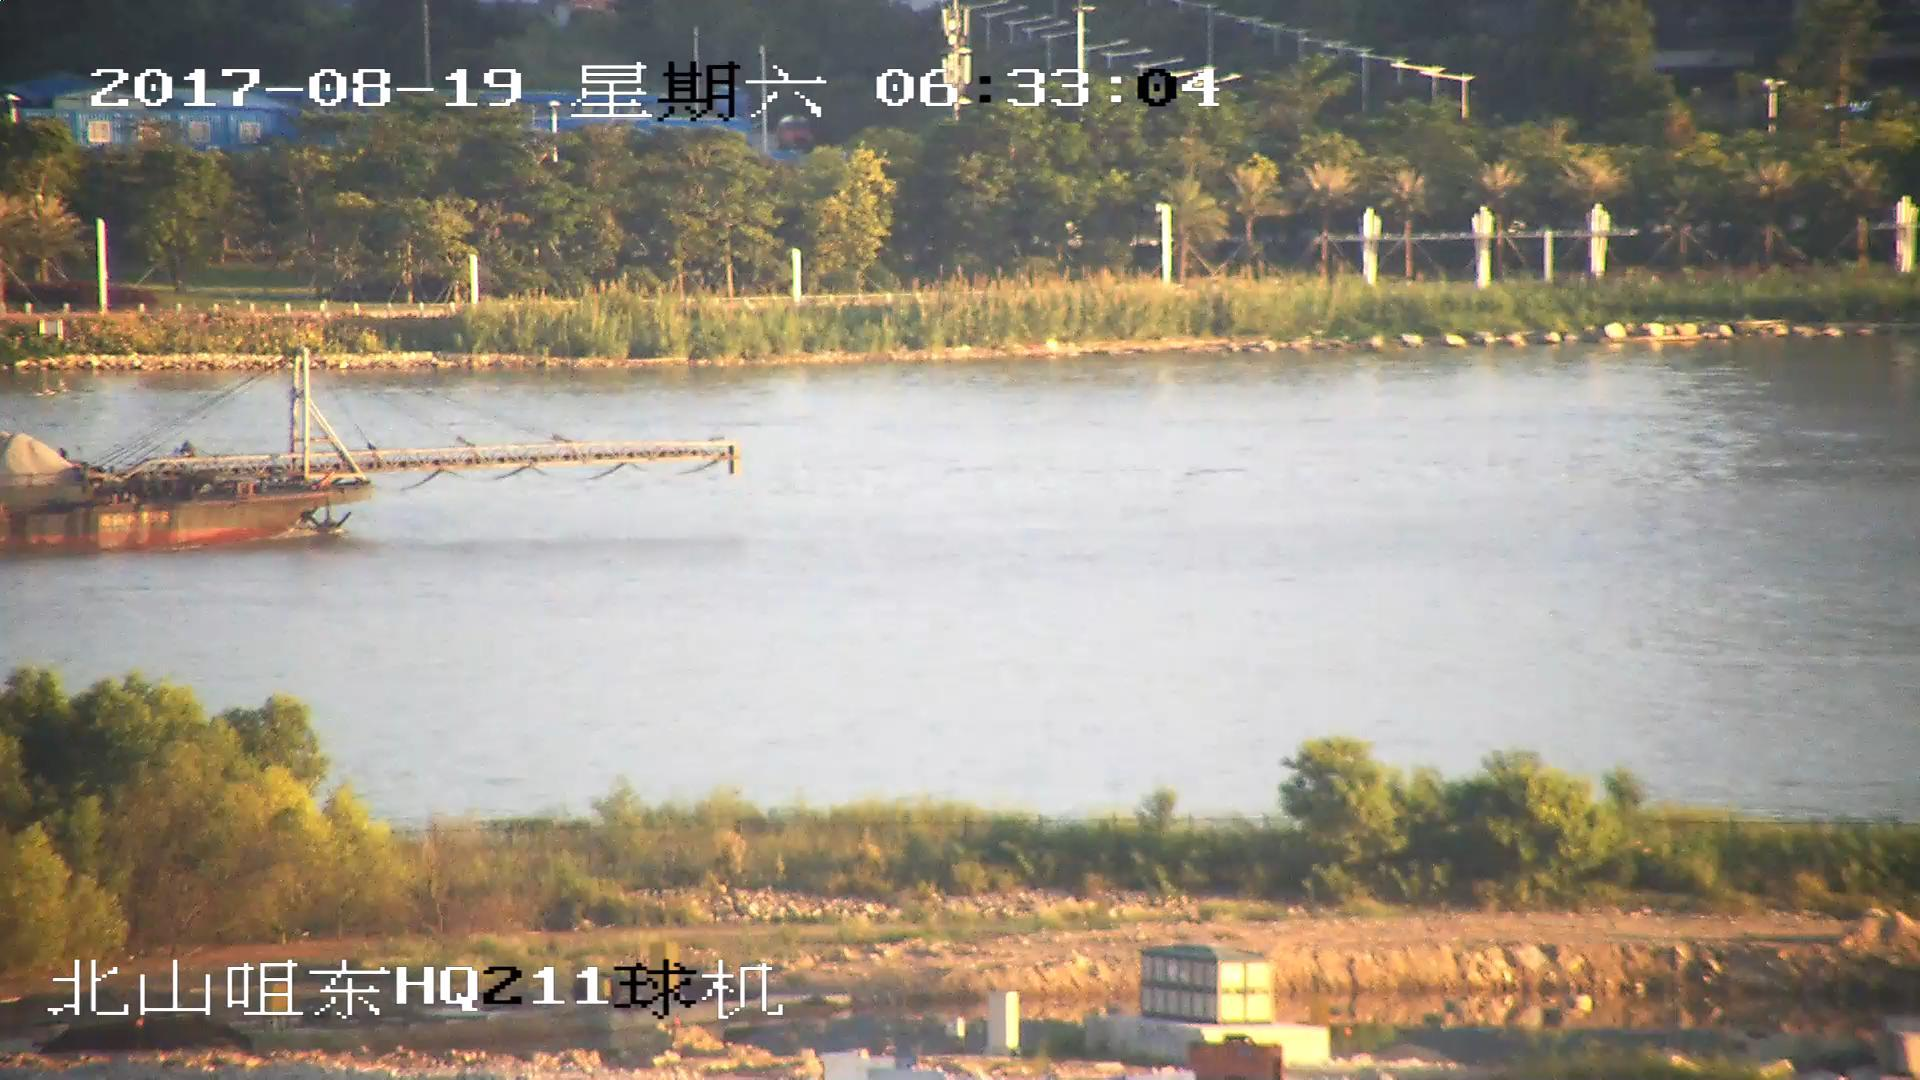Ship: (3, 349, 742, 556)
